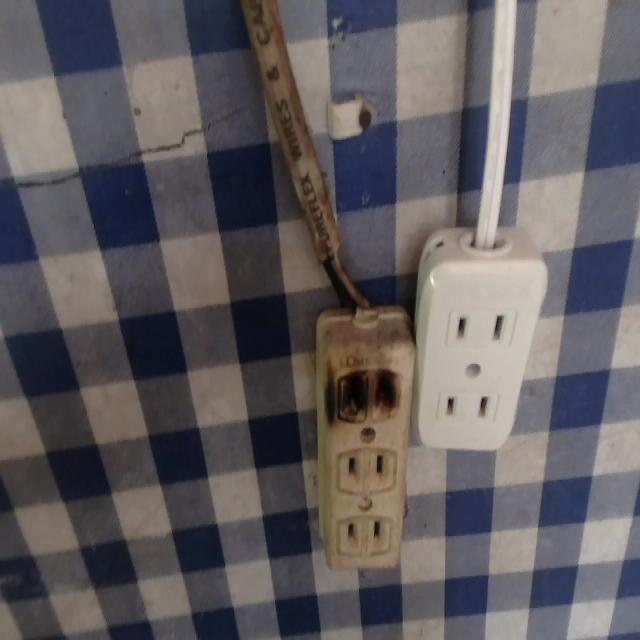-: (328, 344, 410, 433)
